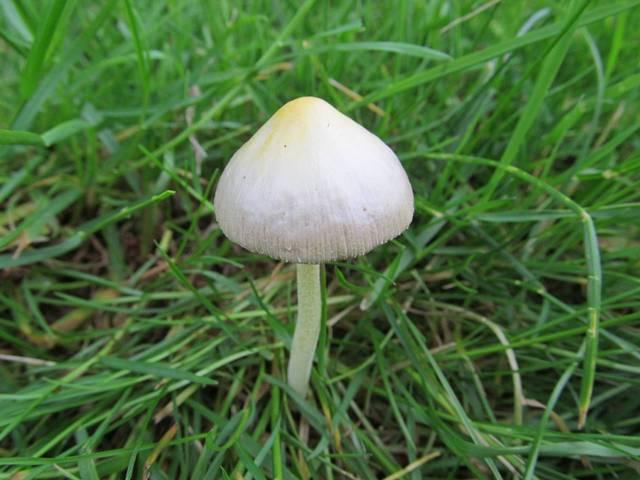Edible Mushroom: (212, 94, 415, 405)
